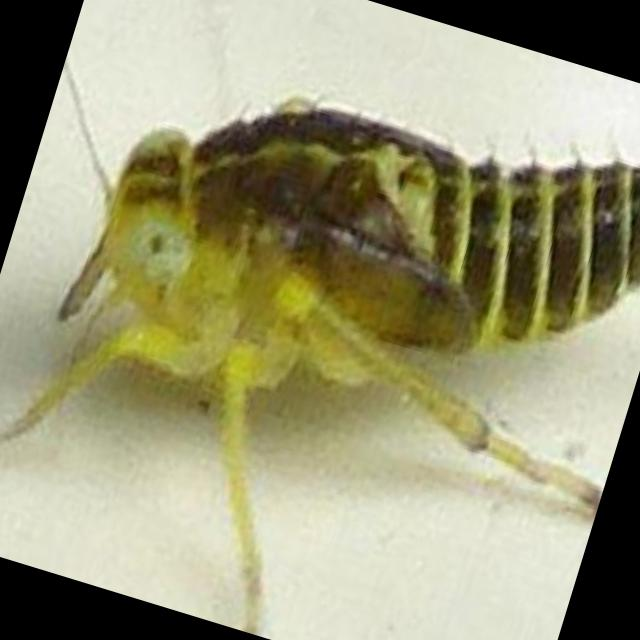green-leafhopper: (34, 0, 640, 581)
